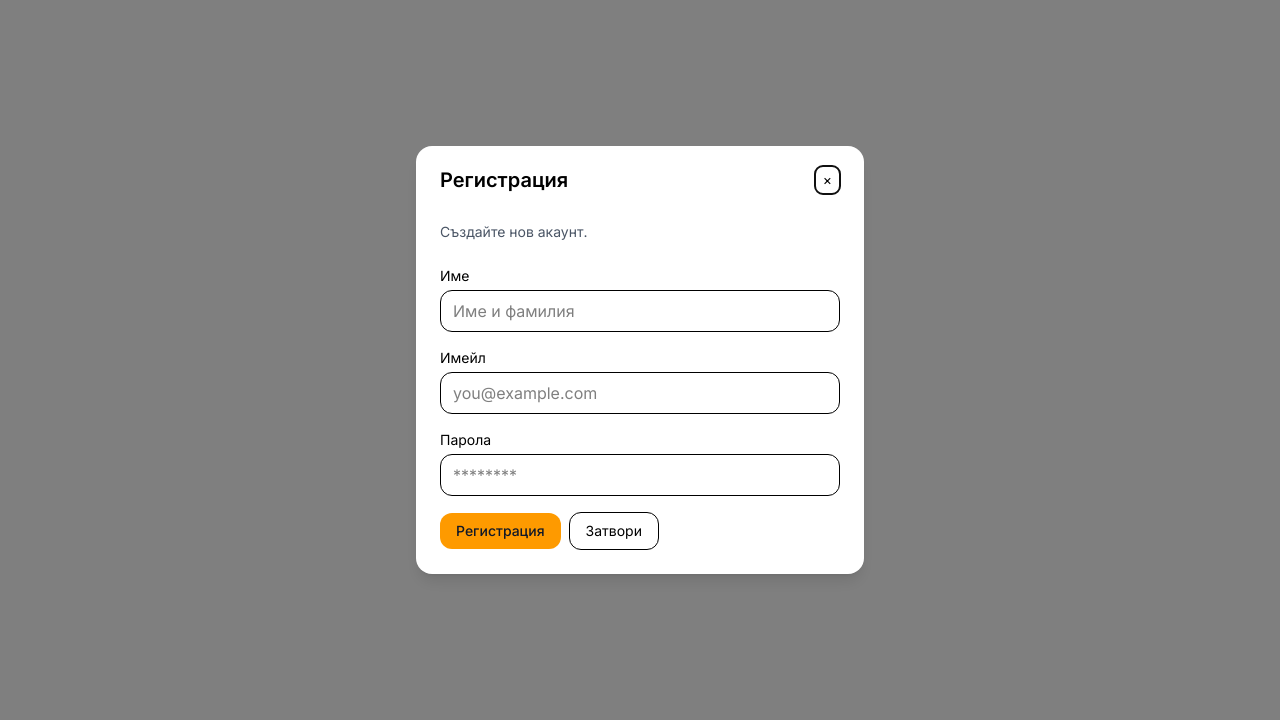
Test: Registration Flow › should show error on failed registration
The width and height of the screenshot is (1280, 720).
Type "Test User" into the field labelled "Име" at (640, 311), box [440,290,840,332]
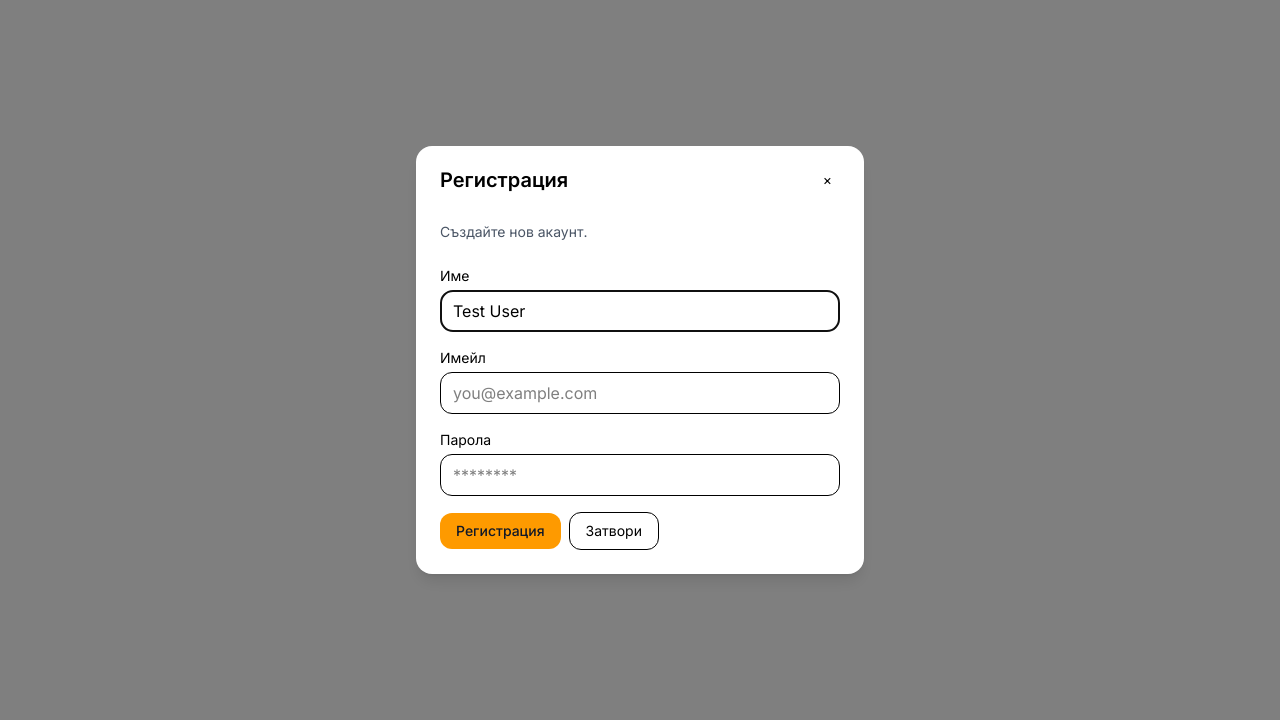
Type "existing@example.com" into the field labelled "Имейл" at (640, 393), box [440,372,840,414]
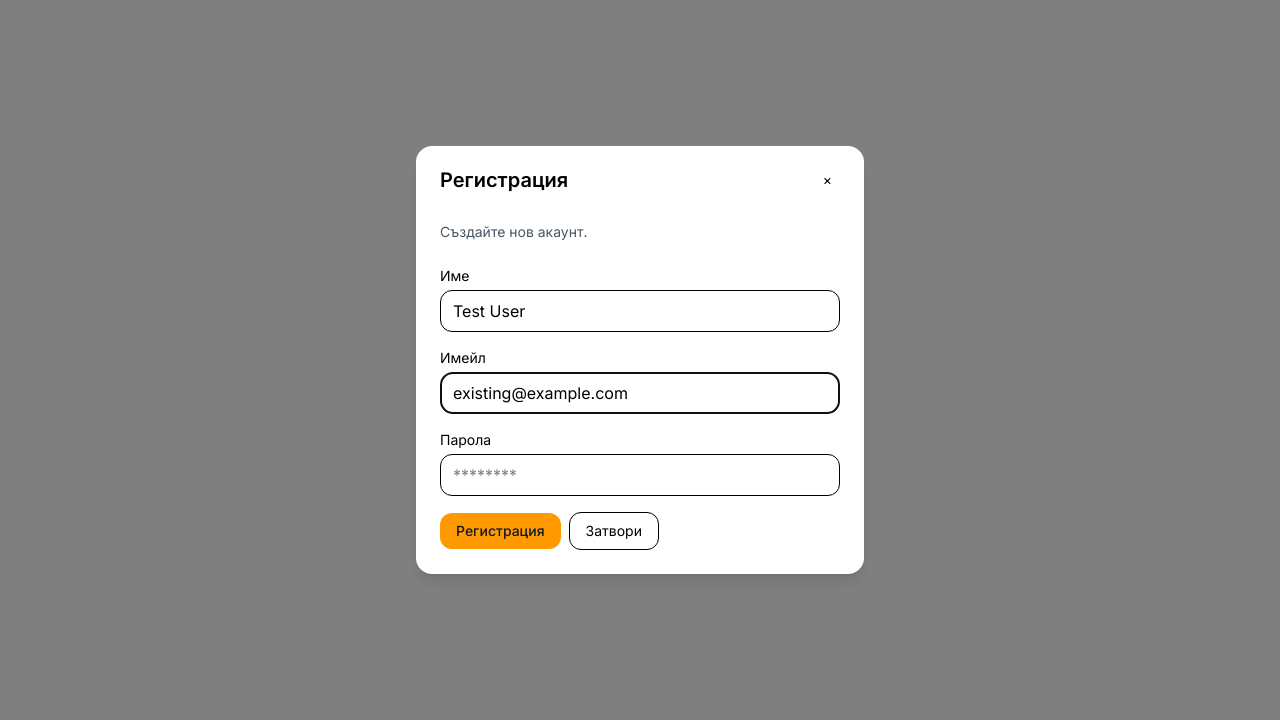
Type "password123" into the password field labelled "Парола" at (640, 475), box [440,454,840,496]
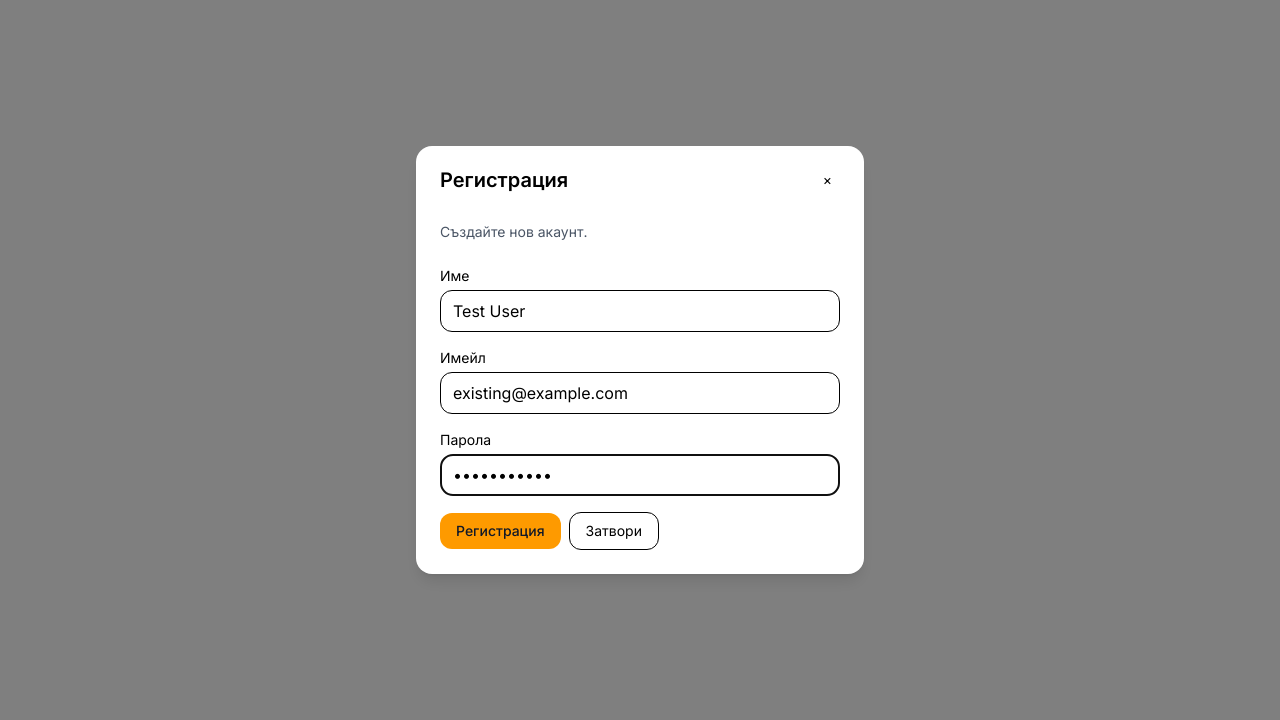
Click the button "Регистрация" at (500, 531), box [440,513,561,549]
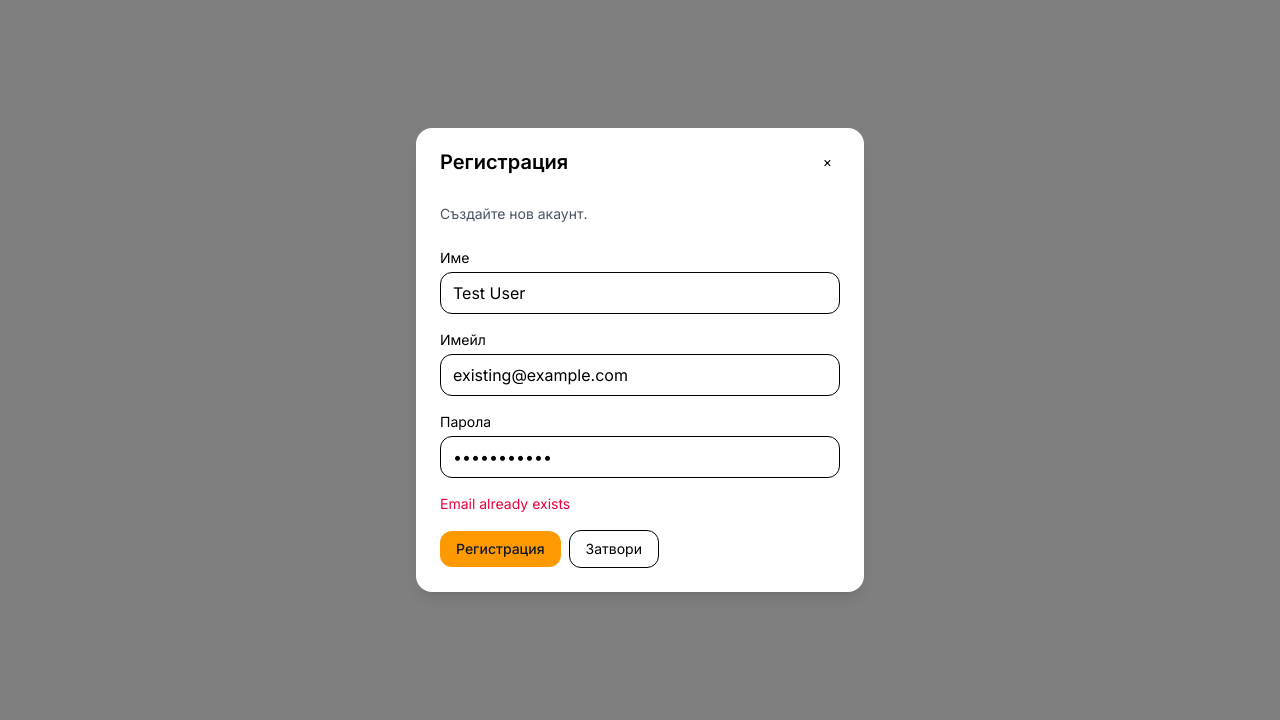
Expected: the text "Email already exists" is shown, [440,495,570,512]
